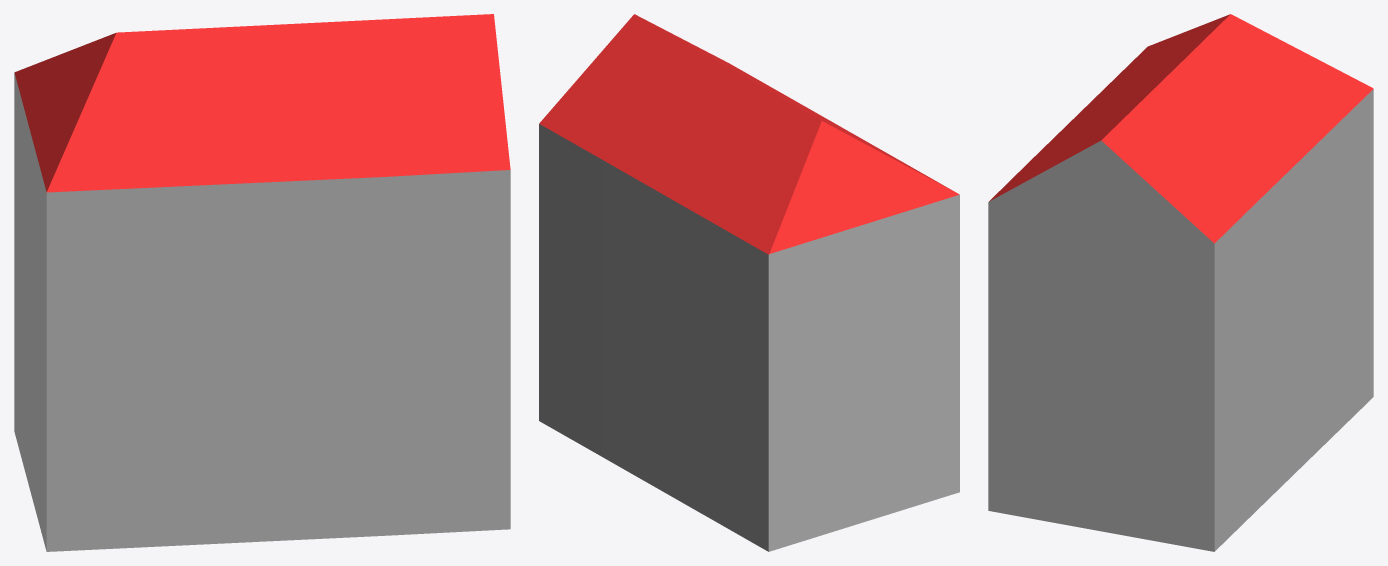
Rendered from DEBY_LOD2_4907040.dae.
3 views of the same model, side by side, from view 1: azimuth 30°, elevation 25°; view 2: azimuth 150°, elevation 25°; view 3: azimuth 270°, elevation 25° (orthographic). The views are drawn at different scales.
Size of the model in its own units: 20.84 by 17.26 by 19.32.
